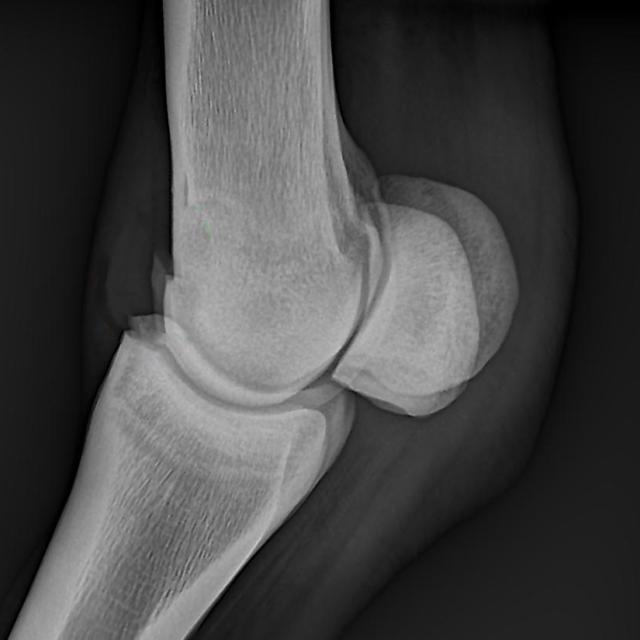bone remodeling: (83, 159, 261, 377)
